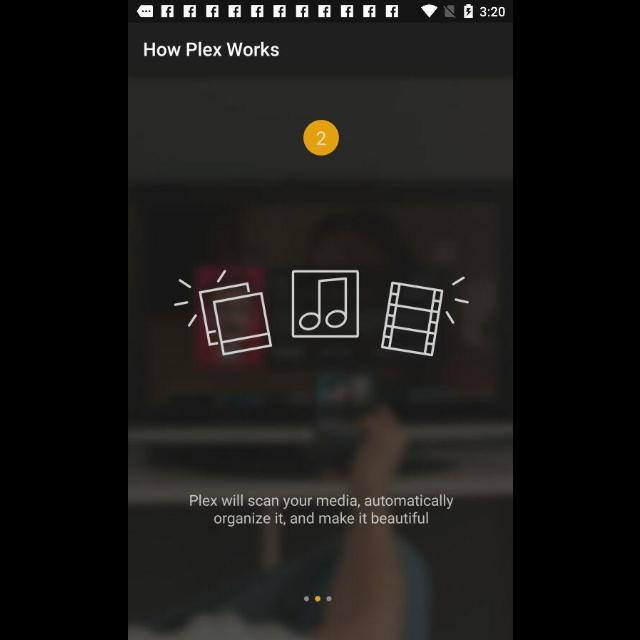backgroundimage: (128, 24, 512, 640)
image: (172, 269, 468, 357), (302, 120, 338, 156)
pageindicator: (302, 596, 332, 602)
text: (189, 494, 453, 528), (143, 42, 279, 58)
uppertaskbar: (128, 1, 512, 23)
